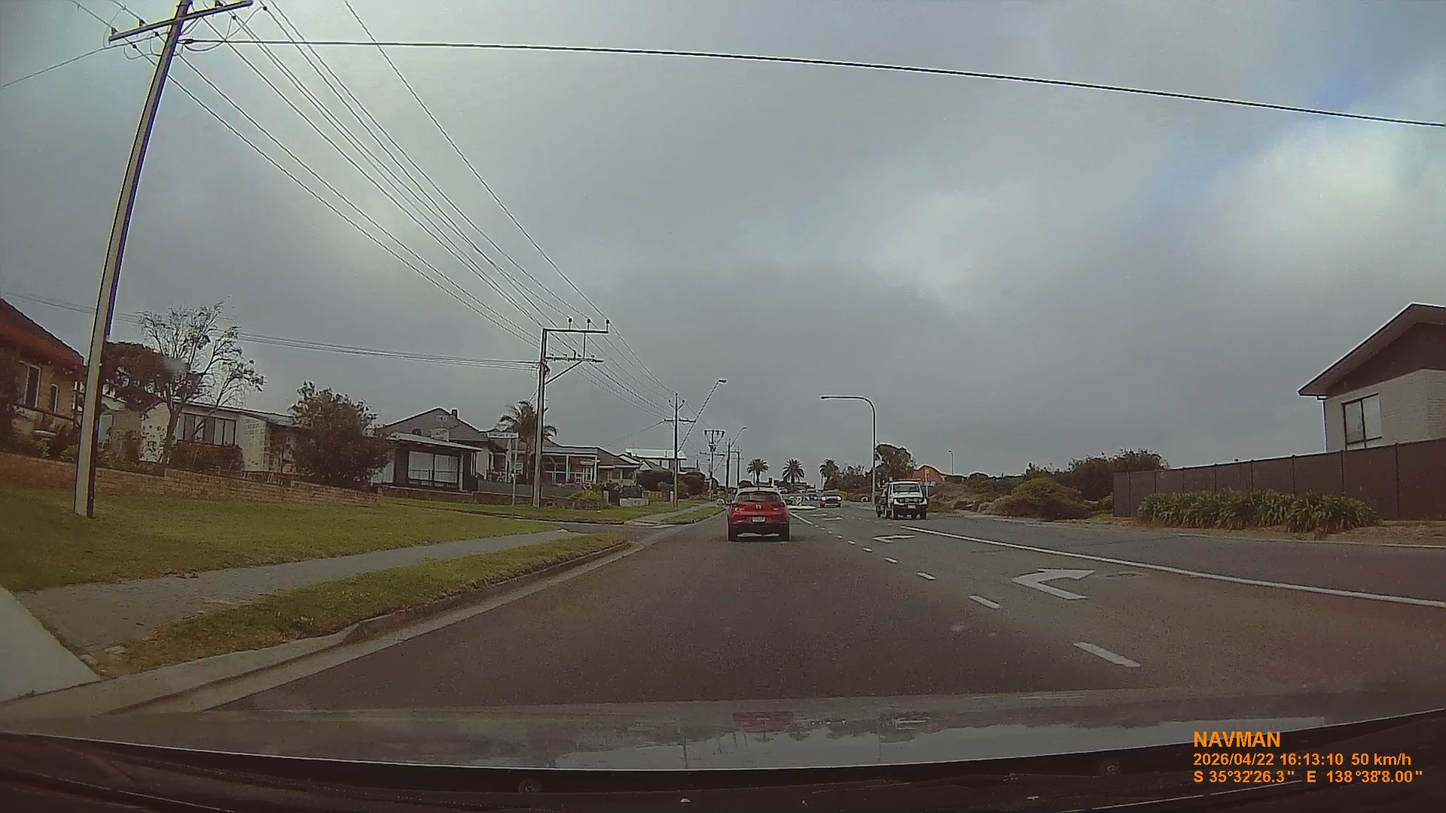fences: (1114, 439, 1445, 519), (99, 467, 381, 506)
